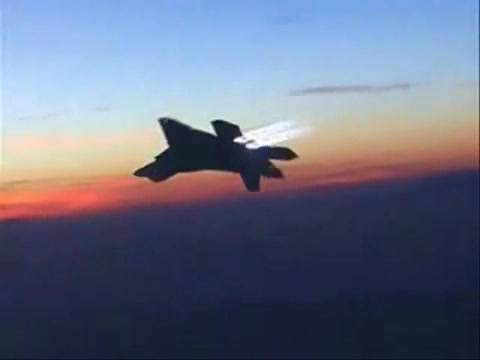aeroplane: (133, 118, 300, 194)
